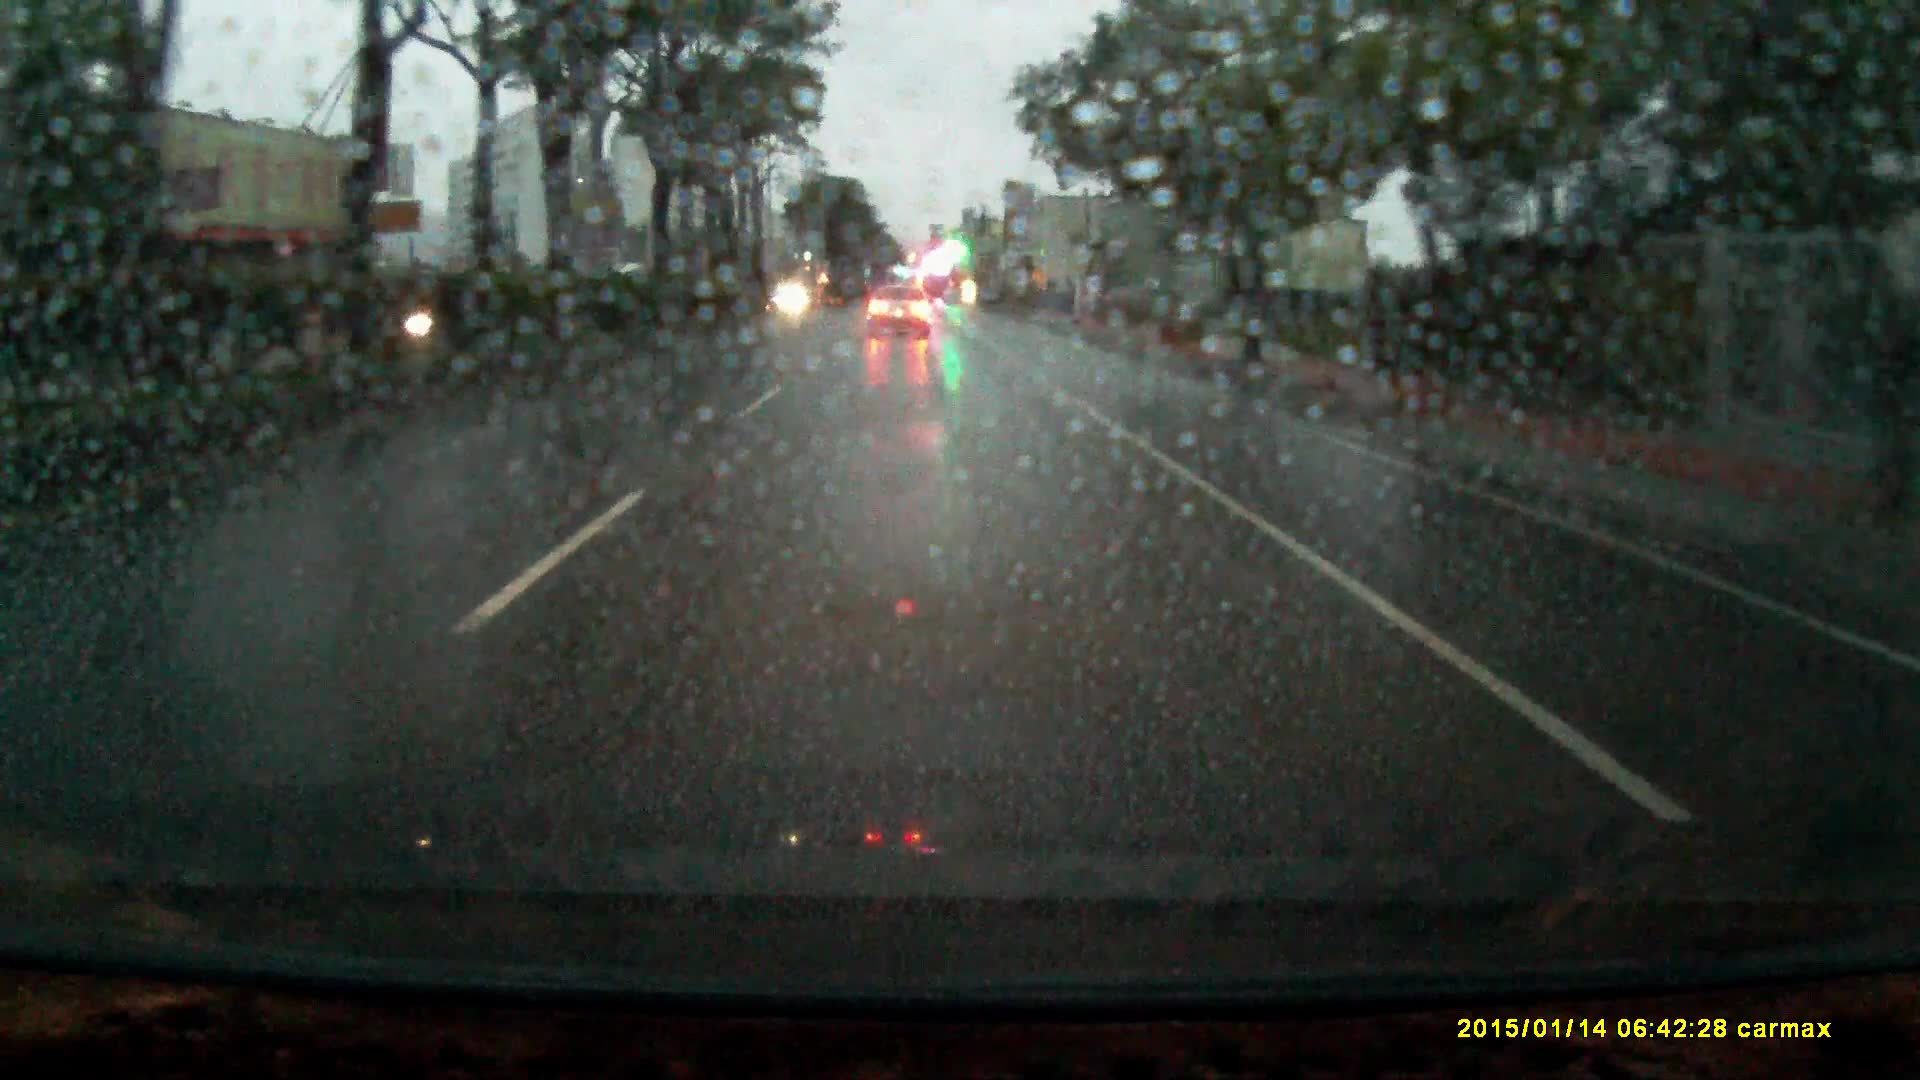vehicle: (868, 291, 934, 348)
